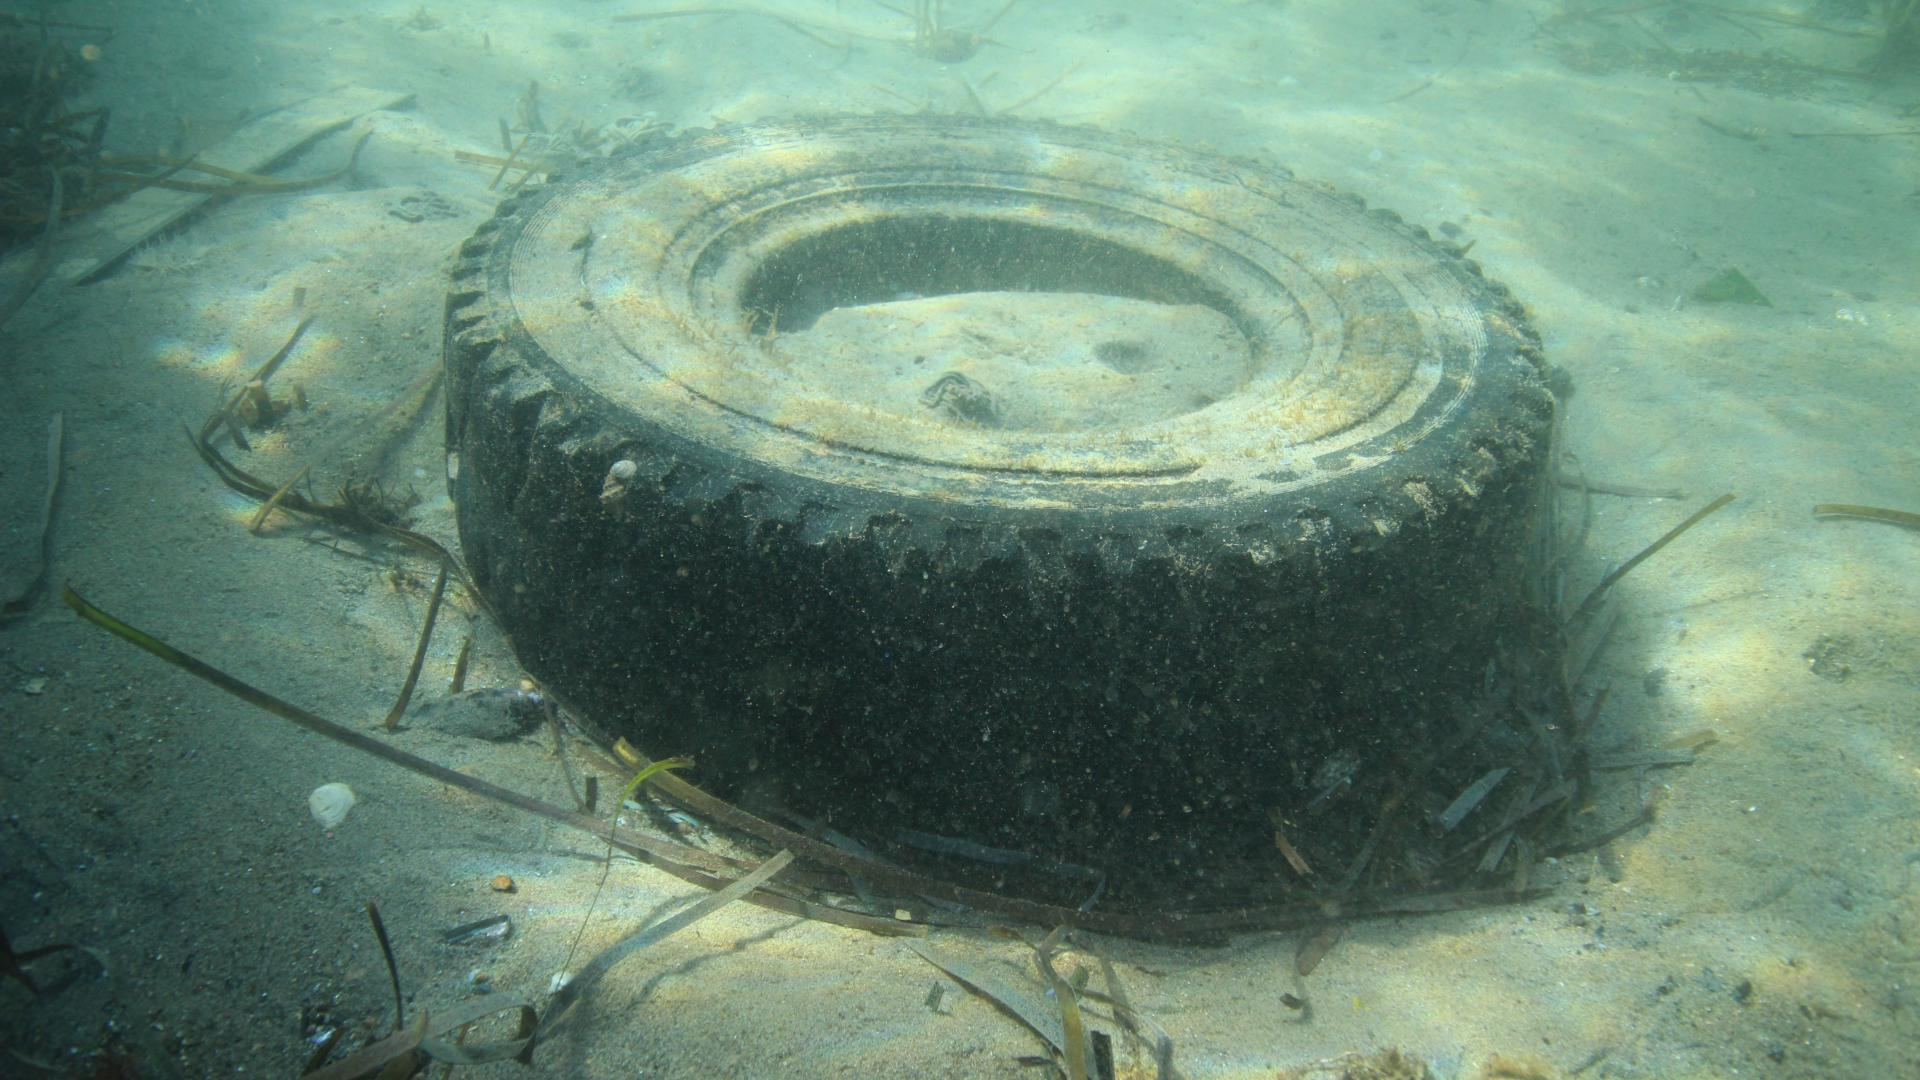tire: (440, 108, 1555, 819)
